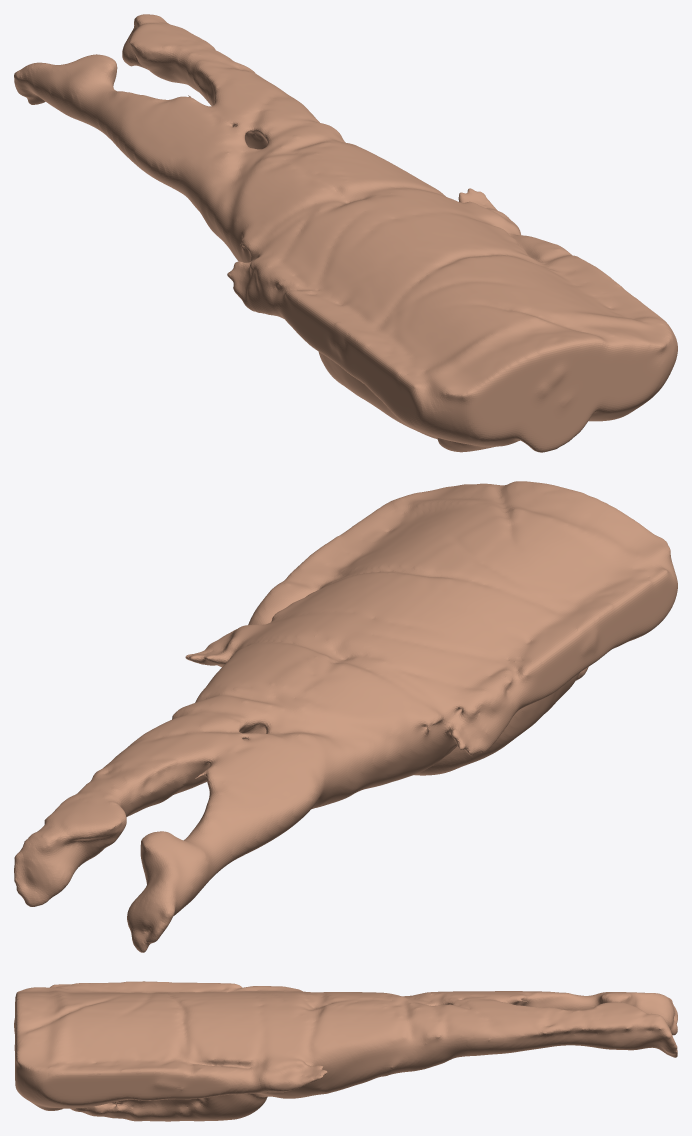
Rendered from wholebody_skin.glb.
The picture shows the model from 3 angles, top to bottom: view 1: azimuth 30°, elevation 25°; view 2: azimuth 150°, elevation 25°; view 3: azimuth 270°, elevation 25°; orthographic projection. The views are drawn at different scales.
Parts seen in each view (by area): view 1: geometry_0; view 2: geometry_0; view 3: geometry_0.
Part boxes in pixels (<box>): geometry_0: <box>14,14,677,452</box>; geometry_0: <box>14,481,677,952</box>; geometry_0: <box>14,981,677,1121</box>.
Bounding box in the file's own units: 510 × 280 × 1549.
